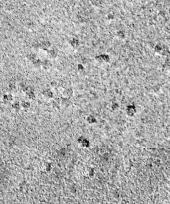rosette_object: (23, 39, 62, 69), (1, 80, 37, 112)
